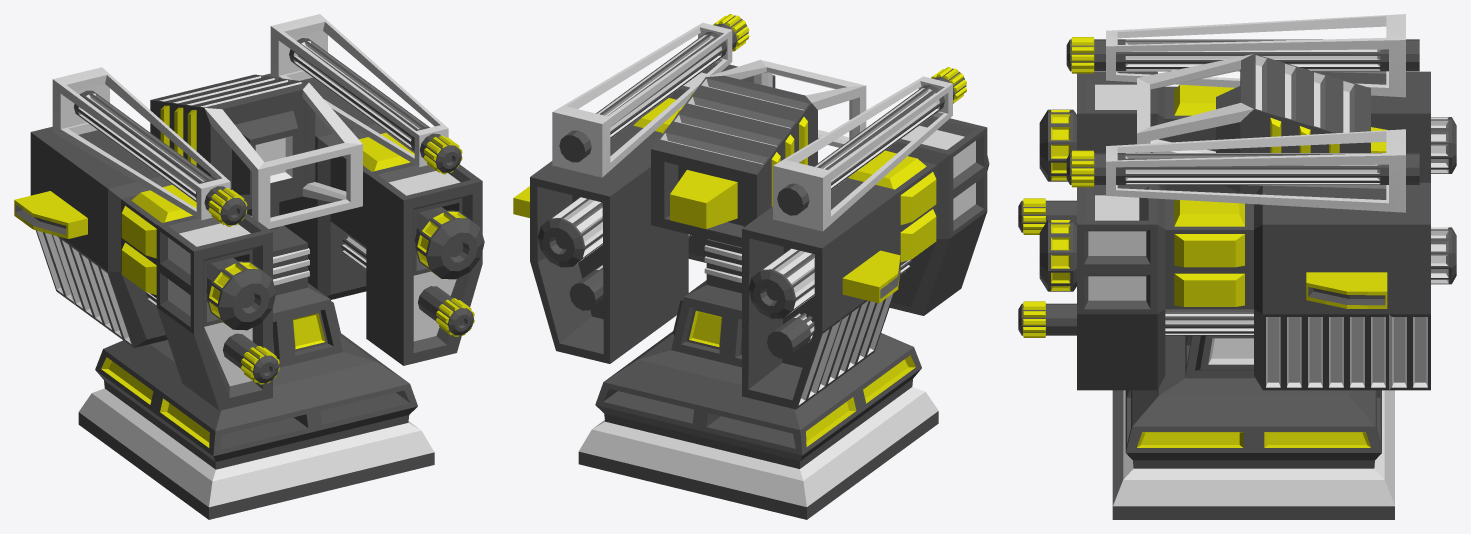
The model's file is tower6_3.fbx.
3 renders of one model, left to right at view 1: azimuth 30°, elevation 25°; view 2: azimuth 150°, elevation 25°; view 3: azimuth 270°, elevation 25°, orthographic. The views are drawn at different scales.
Visible parts, largest first — view 1: polySurface111; view 2: polySurface111; view 3: polySurface111.
Boxes of the visible parts, left/top/right/bottom form: polySurface111: left=14, top=14, right=484, bottom=519; polySurface111: left=513, top=14, right=989, bottom=519; polySurface111: left=1018, top=14, right=1456, bottom=519.
Size of the model in its own units: 0.7086 by 0.6551 by 0.687.
